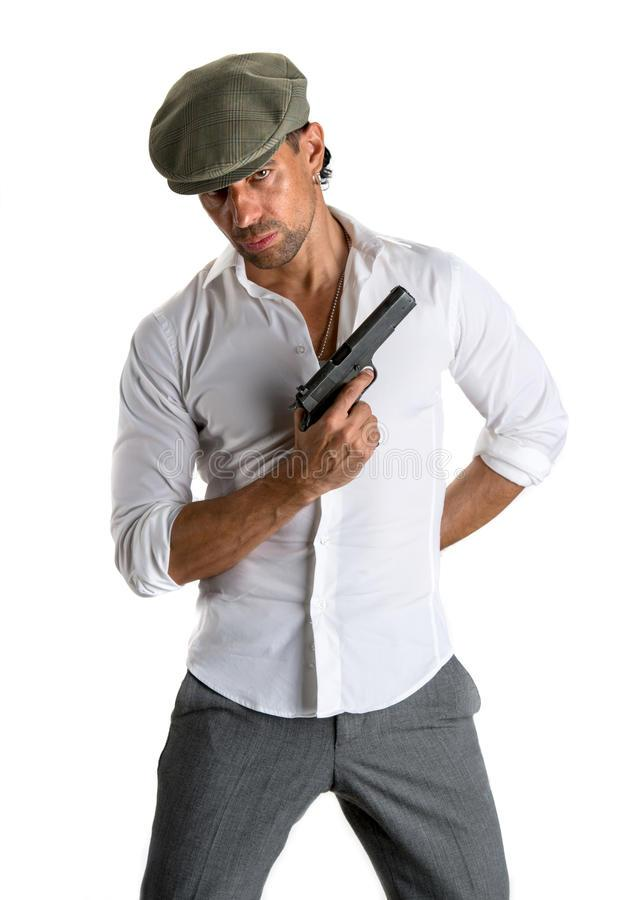criminal: (108, 46, 572, 900)
weapon: (287, 278, 420, 436)
